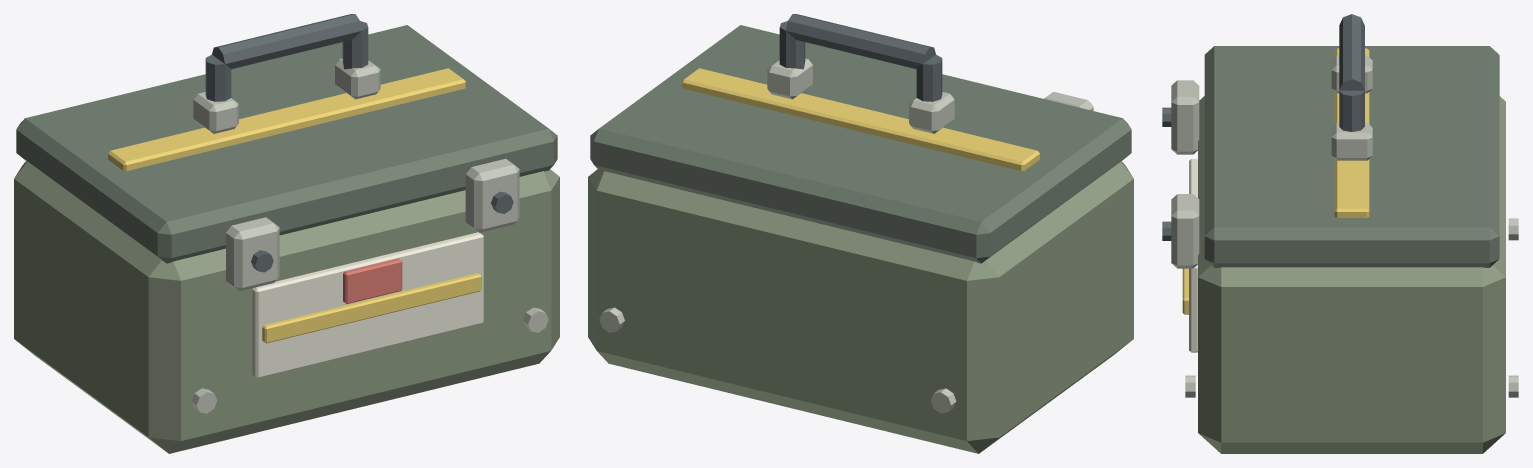
The model's file is AmmoSupplyBox.glb.
The picture shows the model from 3 angles, left to right: view 1: azimuth 30°, elevation 25°; view 2: azimuth 150°, elevation 25°; view 3: azimuth 270°, elevation 25°; orthographic projection. The views are drawn at different scales.
Visible parts, largest first — view 1: StaticMesh; view 2: StaticMesh; view 3: StaticMesh.
Part boxes in pixels (bbox=[...]): StaticMesh: bbox=[14, 14, 559, 453]; StaticMesh: bbox=[588, 14, 1133, 453]; StaticMesh: bbox=[1162, 14, 1518, 453].
Bounding box in the file's own units: 0.36 × 0.275 × 0.278.
